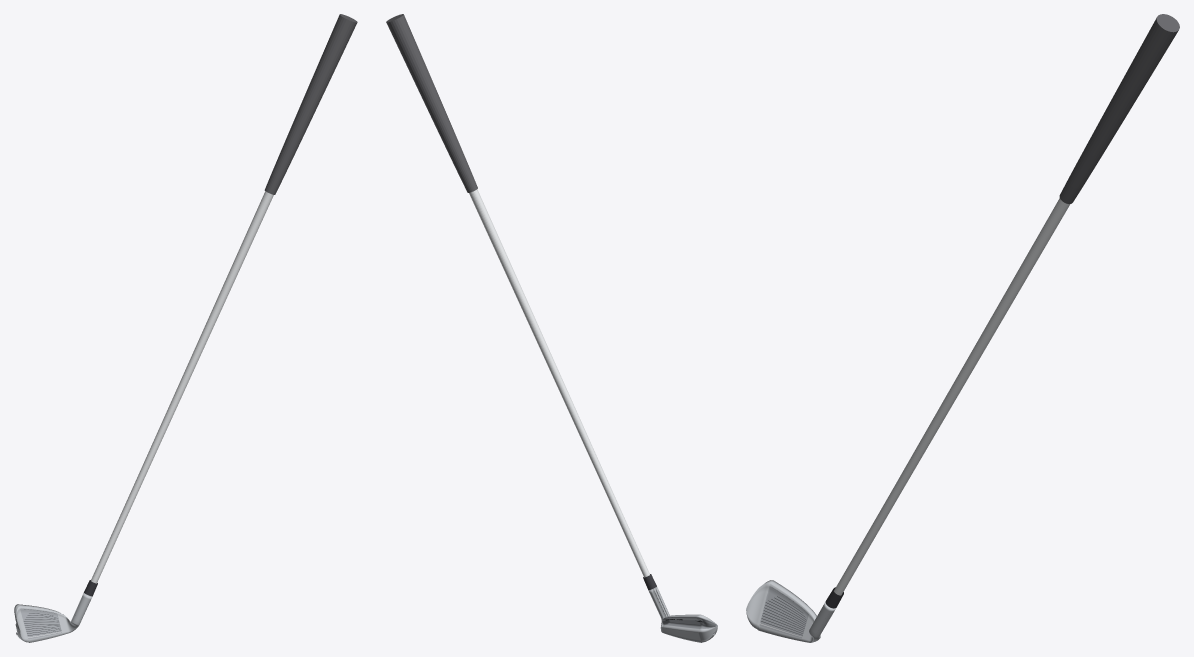
The model's file is 201-mkii.glb.
3 views of the same model, side by side, from view 1: azimuth 30°, elevation 25°; view 2: azimuth 150°, elevation 25°; view 3: azimuth 330°, elevation 25° (orthographic). The views are drawn at different scales.
Parts seen in each view (by area): view 1: Shaft_AR, Grip_AR, 201-mkii; view 2: Shaft_AR, Grip_AR, 201-mkii; view 3: Shaft_AR, Grip_AR, 201-mkii.
Part boxes in pixels (x1,y1,x2,y2): Shaft_AR: (90,191,273,583); Grip_AR: (264,14,357,194); 201-mkii: (14,593,92,642); Shaft_AR: (469,189,649,577); Grip_AR: (386,14,477,192); 201-mkii: (648,587,717,642); Shaft_AR: (834,198,1070,595); Grip_AR: (1059,14,1179,203); 201-mkii: (746,580,835,642).
Size of the model in its own units: 0.5291 by 0.8356 by 0.0494.
Materials: 4 (1 with a texture image).
